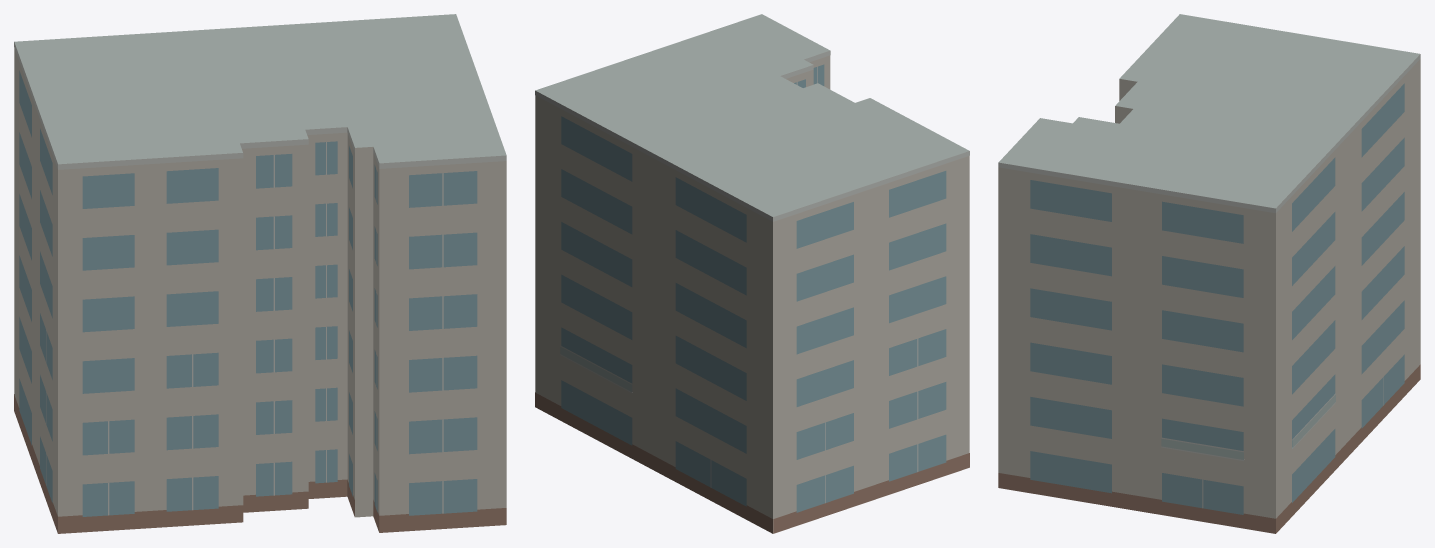
Rendered from survey-upis-32755158.glb.
3 renders of one model, left to right at view 1: azimuth 30°, elevation 25°; view 2: azimuth 150°, elevation 25°; view 3: azimuth 270°, elevation 25°, orthographic. The views are drawn at different scales.
Parts seen in each view (by area): view 1: survey-upis-32755158.tmp; view 2: survey-upis-32755158.tmp; view 3: survey-upis-32755158.tmp.
Boxes of the visible parts, <box> form: survey-upis-32755158.tmp: <box>14,14,506,533</box>; survey-upis-32755158.tmp: <box>535,14,969,533</box>; survey-upis-32755158.tmp: <box>998,14,1420,533</box>.
Size of the model in its own units: 21.03 by 16.4 by 19.29.
